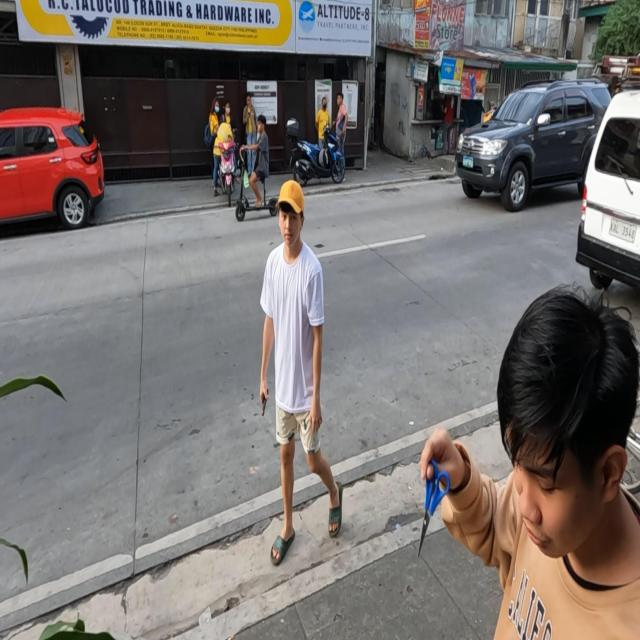scissor: (417, 457, 450, 563)
